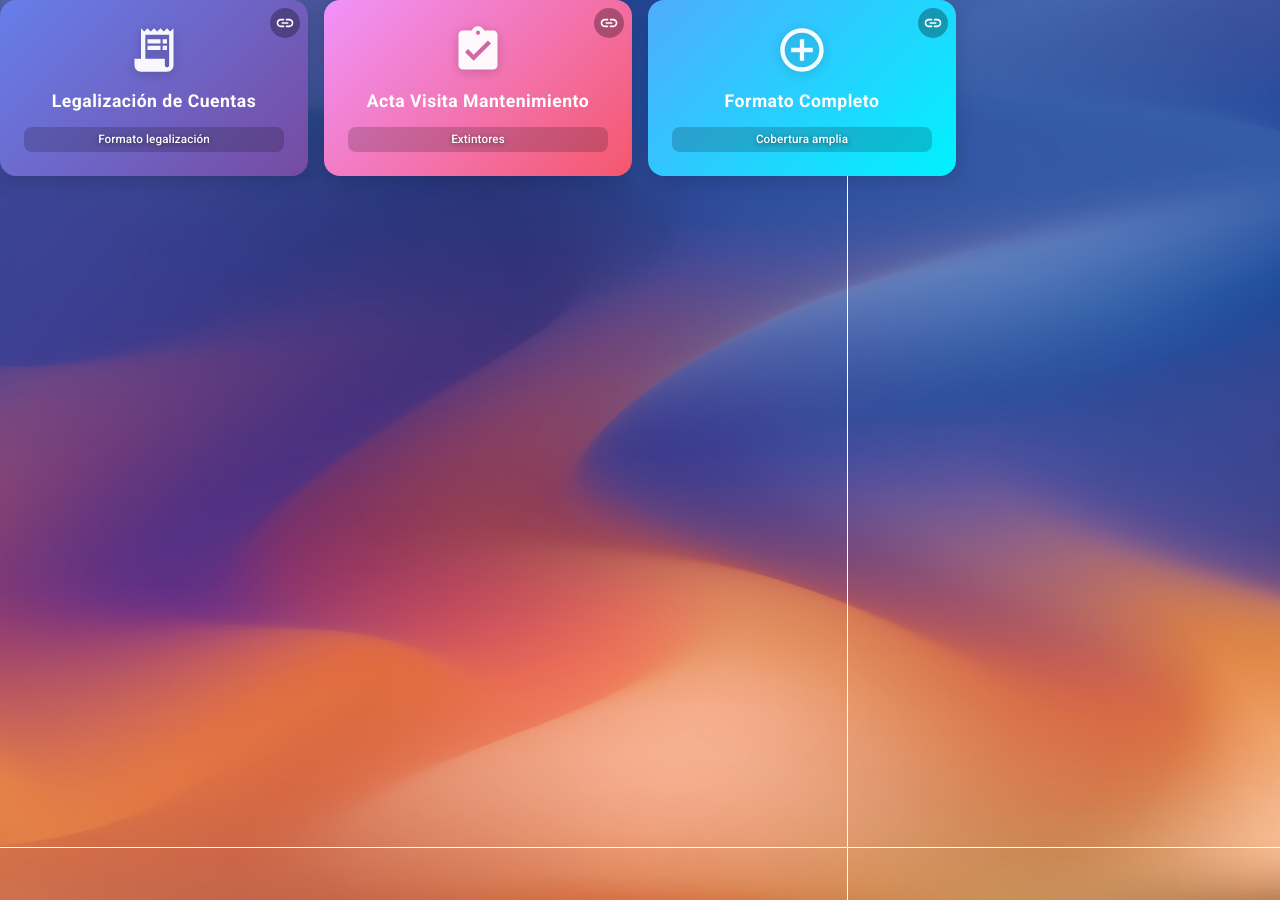
Scenario: FormatSelector › closes dialog when cancel is clicked
Click the heading "Legalización de Cuentas" at (154, 101), box [52,91,256,111]
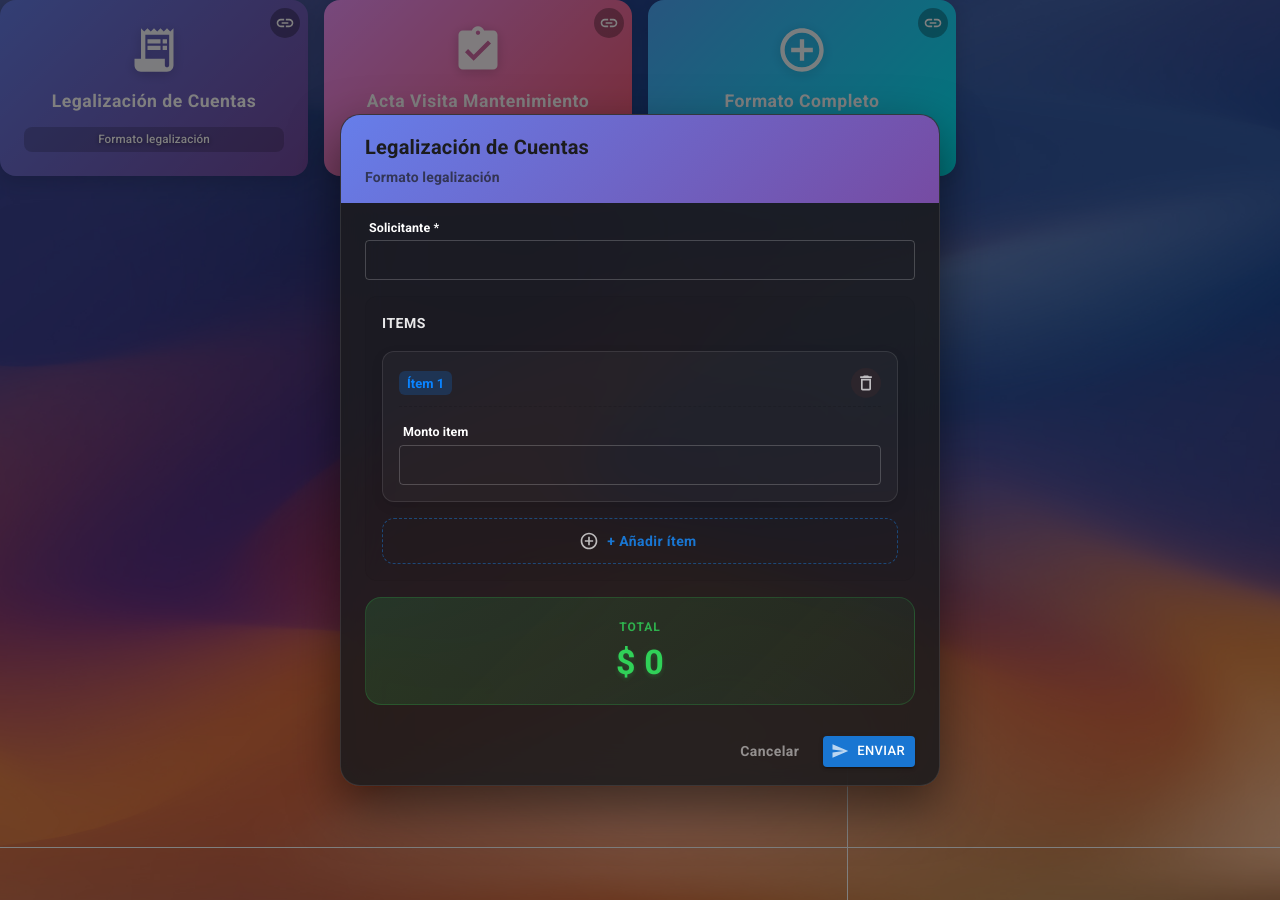
Expected: the dialog is shown, [340,114,940,786]
Click the button "Cancelar" at (770, 751), box [732,733,807,770]
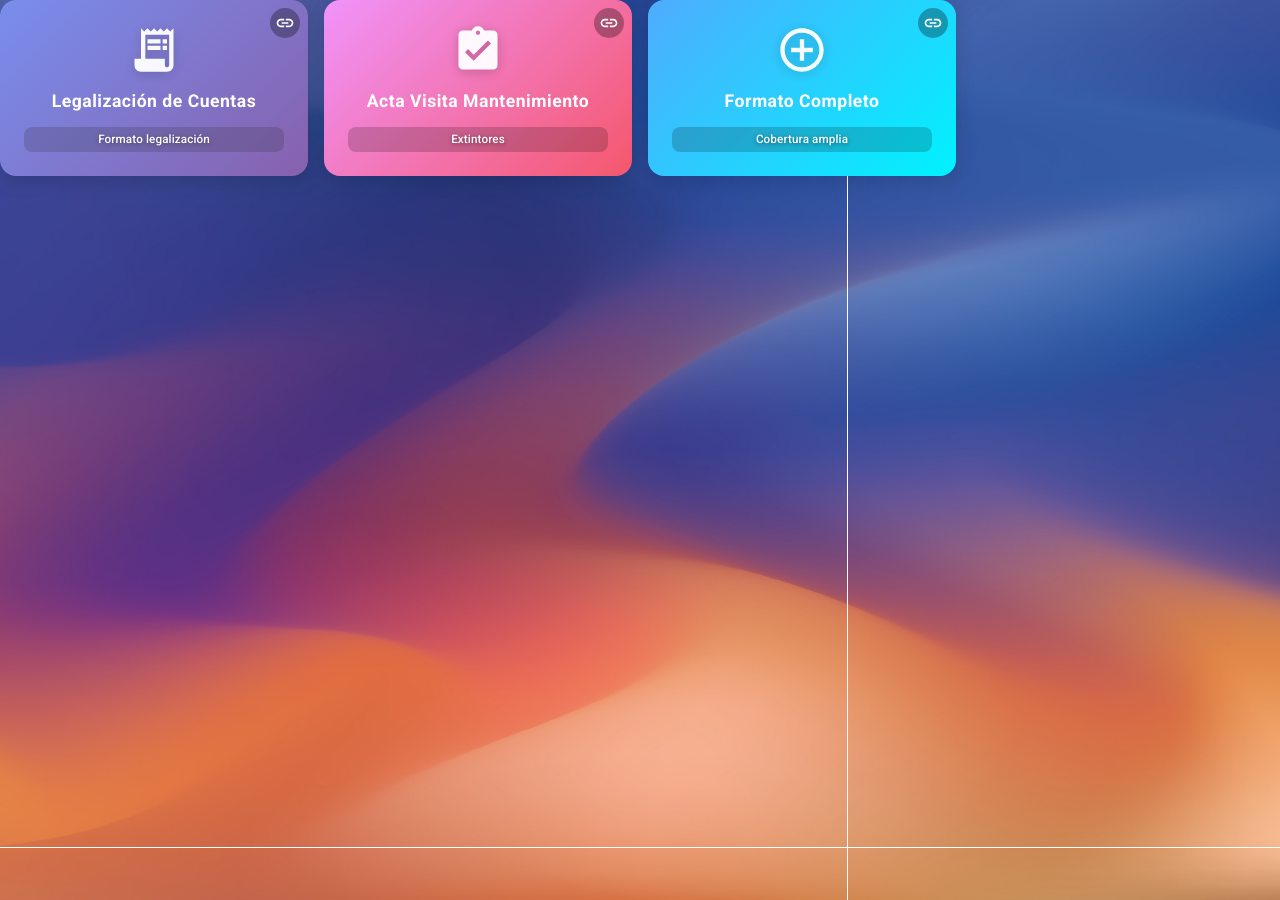
Expected: the dialog is gone
